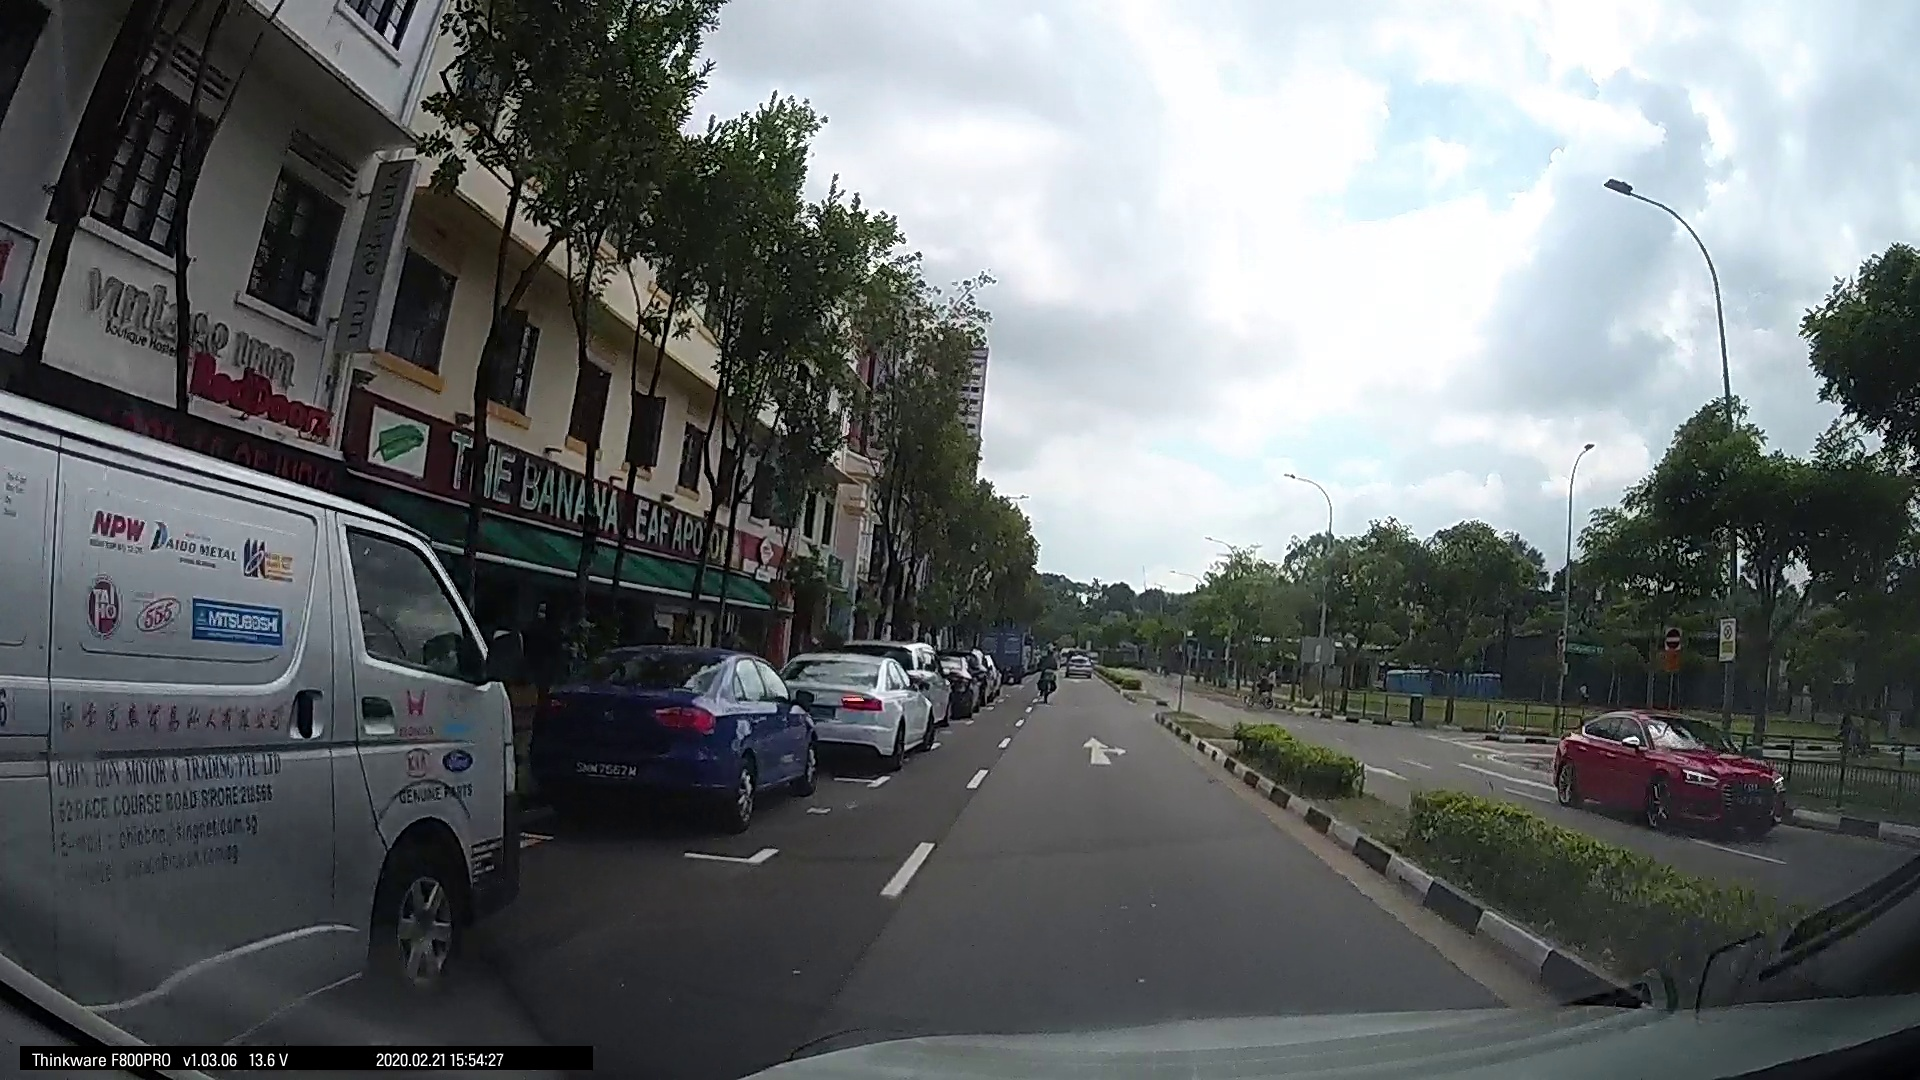Heavy Vehicle: (1604, 578, 1913, 814), (752, 568, 945, 746), (967, 618, 1038, 687)
Light Vehicle: (8, 483, 422, 957), (1489, 698, 1631, 795), (1389, 676, 1501, 766), (1241, 679, 1291, 717)
